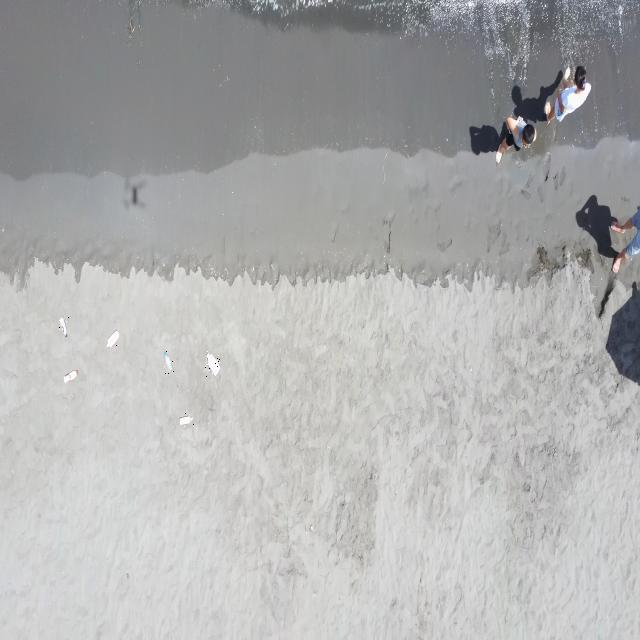Garbage: (207, 352, 219, 375), (105, 329, 119, 347), (163, 351, 172, 372), (64, 369, 76, 383), (59, 316, 67, 335), (180, 415, 191, 424)
